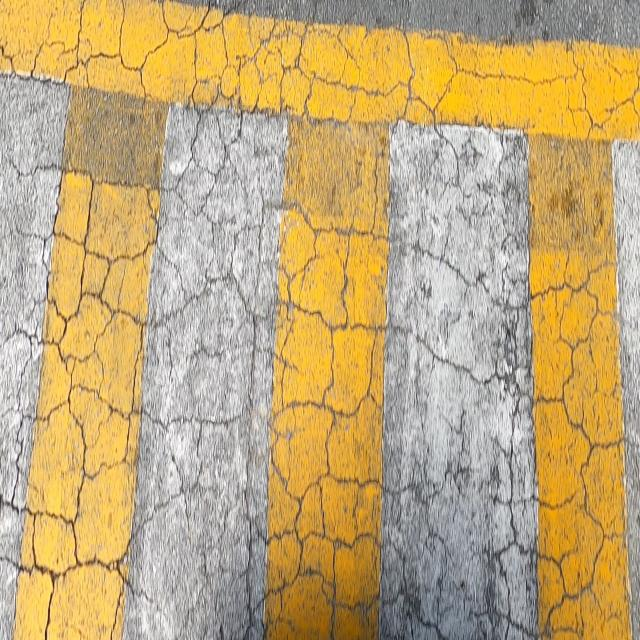Retak-Buaya: (0, 1, 639, 640)
